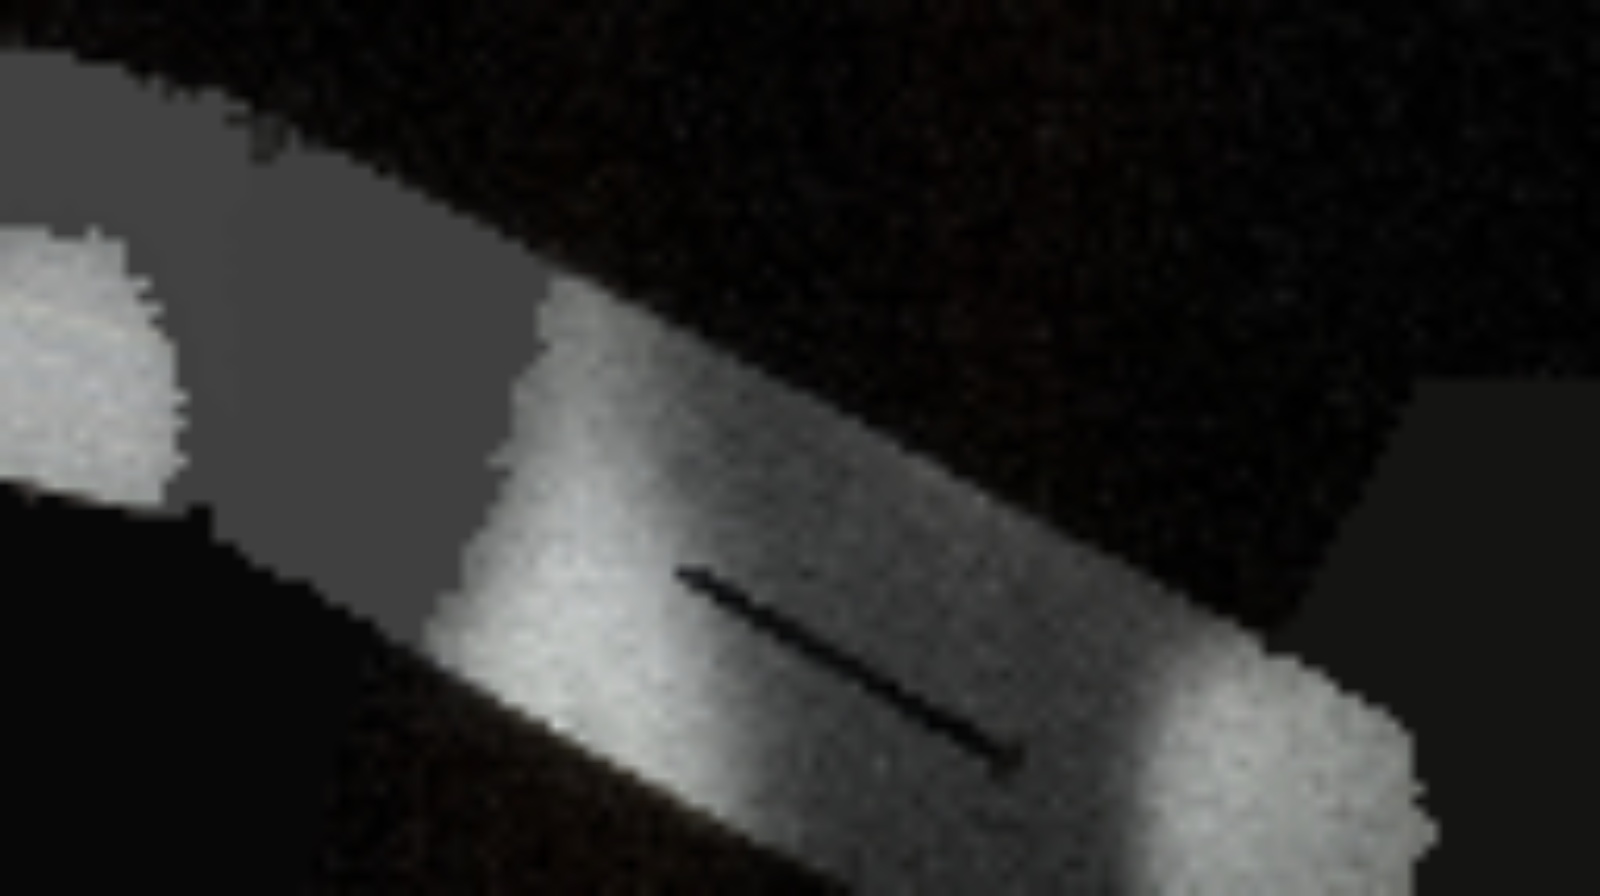S002: (624, 538, 1069, 818)
